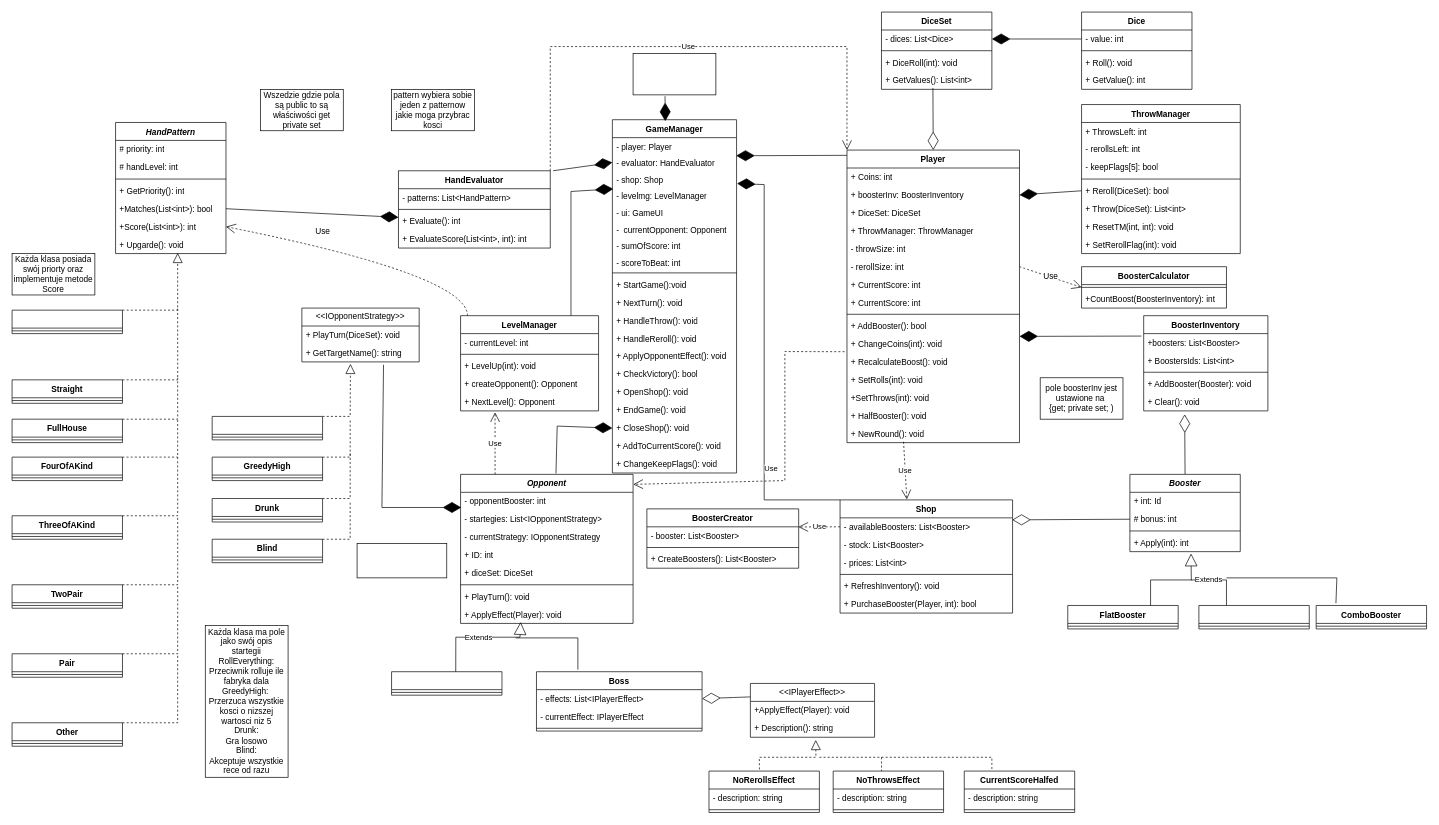
This 1439x825 diagram has some shape labels left out. Each missing label, with the centre of its shape:
GAME MANAGER UI: the point at 674,74
MultiplyBooster: the point at 1253,617
NormalOpponent: the point at 446,683
RollEverything: the point at 267,428
Uzywa ThrowManager agreguje DiceSet: the point at 401,560
Yahtzee: the point at 66,321
